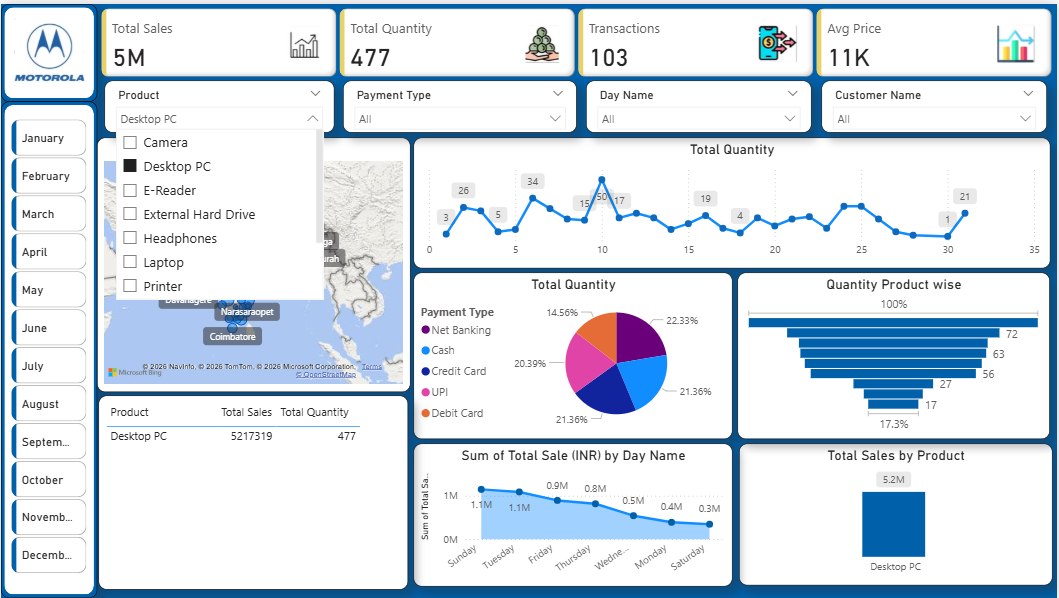

The page's visual inventory and layout, read from the dashboard file:
{"tool":"powerbi","page":{"name":"Page 1","canvas":[1280,720],"ordinal":0},"visuals":[{"type":"shape","box":[0,0,116.7,118.3],"z":0},{"type":"image","box":[10,11.7,95,95],"z":1000},{"type":"shape","box":[0,118.3,116.7,601.7],"z":1001},{"type":"advancedSlicerVisual","fields":{"Values":["Sales_Data.Sales Date.Variation.Date Hierarchy.Month"]},"box":[6.7,135,101.7,570],"z":1002},{"type":"cardVisual","fields":{"Data":["Sales_Data.Total Sales","Sales_Data.Total Quantity","Sales_Data.Transactions","Sales_Data.Avg Price"]},"box":[116.7,0,1163.3,93.3],"z":1003},{"type":"map","fields":{"Category":["Sales_Data.City"],"Size":["Sales_Data.Total Sales"]},"box":[116.7,161.7,380,308.3],"z":1004},{"type":"lineChart","title":"Total Quantity","fields":{"Category":["Sales_Data.Sales Date.Variation.Date Hierarchy.Month","Sales_Data.Sales Date.Variation.Date Hierarchy.Day"],"Y":["Sales_Data.Total Quantity"]},"box":[500,161.7,771.7,158.3],"z":1005},{"type":"clusteredColumnChart","title":"Total Sales by Product","fields":{"Y":["Sum(Sales_Data.Total Sale (INR))"],"Category":["Sales_Data.Product"]},"box":[895,533.3,380,171.7],"z":1006},{"type":"pieChart","title":"Total Quantity","fields":{"Category":["Sales_Data.Payment Type"],"Y":["Sales_Data.Transactions"]},"box":[500,325,386.7,201.7],"z":1007},{"type":"funnel","title":"Quantity Product wise","fields":{"Category":["Sales_Data.Quantity"],"Y":["Sum(Sales_Data.Quantity)"]},"box":[893.3,325,378.3,201.7],"z":1008},{"type":"areaChart","fields":{"Category":["Sales_Data.Day Name"],"Y":["Sum(Sales_Data.Total Sale (INR))"]},"box":[500,533.3,386.7,173.3],"z":1009},{"type":"tableEx","title":"Total Quantity","fields":{"Values":["Sales_Data.Product","Sales_Data.Total Sales","Sales_Data.Total Quantity"]},"box":[118.3,475,375,235],"z":1010},{"type":"slicer","fields":{"Values":["Sales_Data.Product"]},"box":[125,93.3,278.3,63.3],"z":1011},{"type":"slicer","fields":{"Values":["Sales_Data.Payment Type"]},"box":[415,93.3,283.3,63.3],"z":1012},{"type":"slicer","fields":{"Values":["Sales_Data.Day Name"]},"box":[708.3,93.3,273.3,63.3],"z":1013},{"type":"slicer","fields":{"Values":["Sales_Data.Customer Name"]},"box":[995,93.3,273.3,63.3],"z":1014}]}

Visuals, with their boxes in screenshot pixels (x1, y1, x2, y2), scaled from the page's 1280x720 canvas onto the 1059x598 screenshot:
shape: select_region(0, 0, 97, 98)
image: select_region(8, 10, 87, 89)
shape: select_region(0, 98, 97, 597)
advancedSlicerVisual - Sales_Data.Sales Date.Variation.Date Hierarchy.Month: select_region(6, 112, 90, 586)
cardVisual - Sales_Data.Total Sales x Sales_Data.Total Quantity: select_region(97, 0, 1058, 77)
map - Sales_Data.City x Sales_Data.Total Sales: select_region(97, 134, 411, 390)
"Total Quantity" lineChart: select_region(414, 134, 1052, 266)
"Total Sales by Product" clusteredColumnChart: select_region(740, 443, 1055, 586)
"Total Quantity" pieChart: select_region(414, 270, 734, 437)
"Quantity Product wise" funnel: select_region(739, 270, 1052, 437)
areaChart - Sales_Data.Day Name x Sum(Sales_Data.Total Sale (INR)): select_region(414, 443, 734, 587)
"Total Quantity" tableEx: select_region(98, 395, 408, 590)
slicer - Sales_Data.Product: select_region(103, 77, 334, 130)
slicer - Sales_Data.Payment Type: select_region(343, 77, 578, 130)
slicer - Sales_Data.Day Name: select_region(586, 77, 812, 130)
slicer - Sales_Data.Customer Name: select_region(823, 77, 1049, 130)
